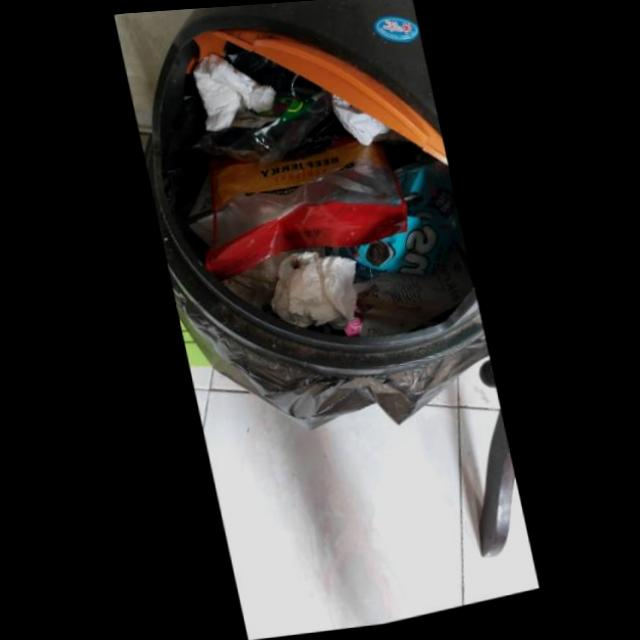bao_bi_thuc_pham: (201, 141, 404, 284)
giay: (267, 254, 354, 333), (191, 55, 275, 134)
